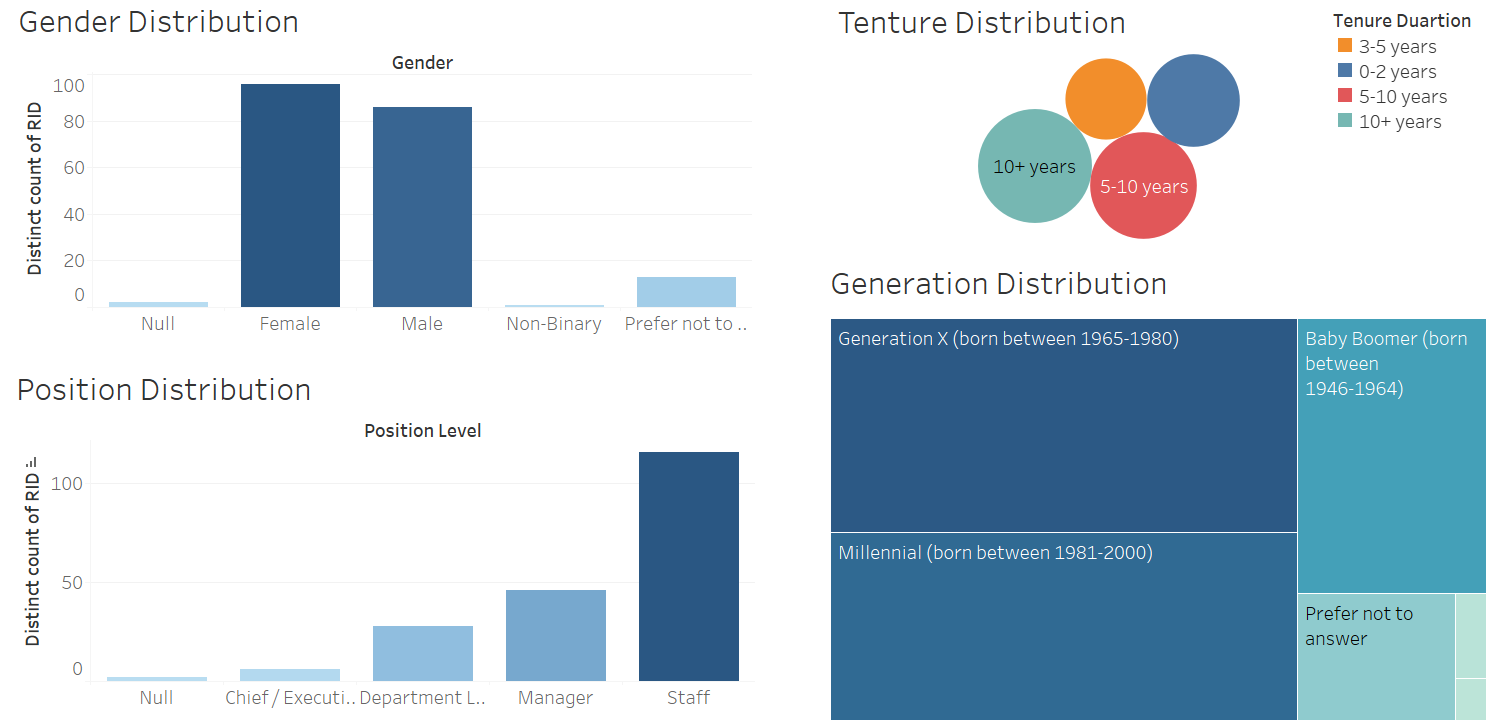

The dashboard page shown, as its layout file describes it:
{"tool":"tableau","page":{"name":"Demographics","canvas":[1000,1000],"units":"permille","ordinal":1},"visuals":[{"type":"worksheet","title":"Gender Distribution","mark":"Automatic","rows":["Calculation_1244400923741995009"],"cols":["Gender"],"box":[20.4,10.7,485.5,471.2]},{"type":"worksheet","title":"Tenture Distribution","mark":"Circle","box":[559.9,12.1,361.2,325.3]},{"type":"legend","title":"Tenture Distribution","param":"[federated.1gtq7b601uoz6611wtix308ogm72].[none:Tenure Duartion:nk]","box":[888.2,26.8,92.1,168.7]},{"type":"worksheet","title":"Generation Distribution","mark":"Automatic","box":[554.6,361.4,436.8,626.5]},{"type":"worksheet","title":"Position Distribution","mark":"Automatic","rows":["Calculation_1244400923741995009"],"cols":["Position Level"],"box":[19.1,503.4,488.8,479.2]}]}

Visuals, with their boxes on the dashboard's canvas, which has no fixed pixel size, in thousandths of its width and height (x1, y1, x2, y2). These are canvas units, not pixel positions in the 1498x727 screenshot, which may show the page scaled, cropped or inside an application window:
"Gender Distribution" worksheet: (20,11,506,482)
"Tenture Distribution" worksheet (Circle marks): (560,12,921,337)
"Tenture Distribution" legend: (888,27,980,196)
"Generation Distribution" worksheet: (555,361,991,988)
"Position Distribution" worksheet: (19,503,508,983)
